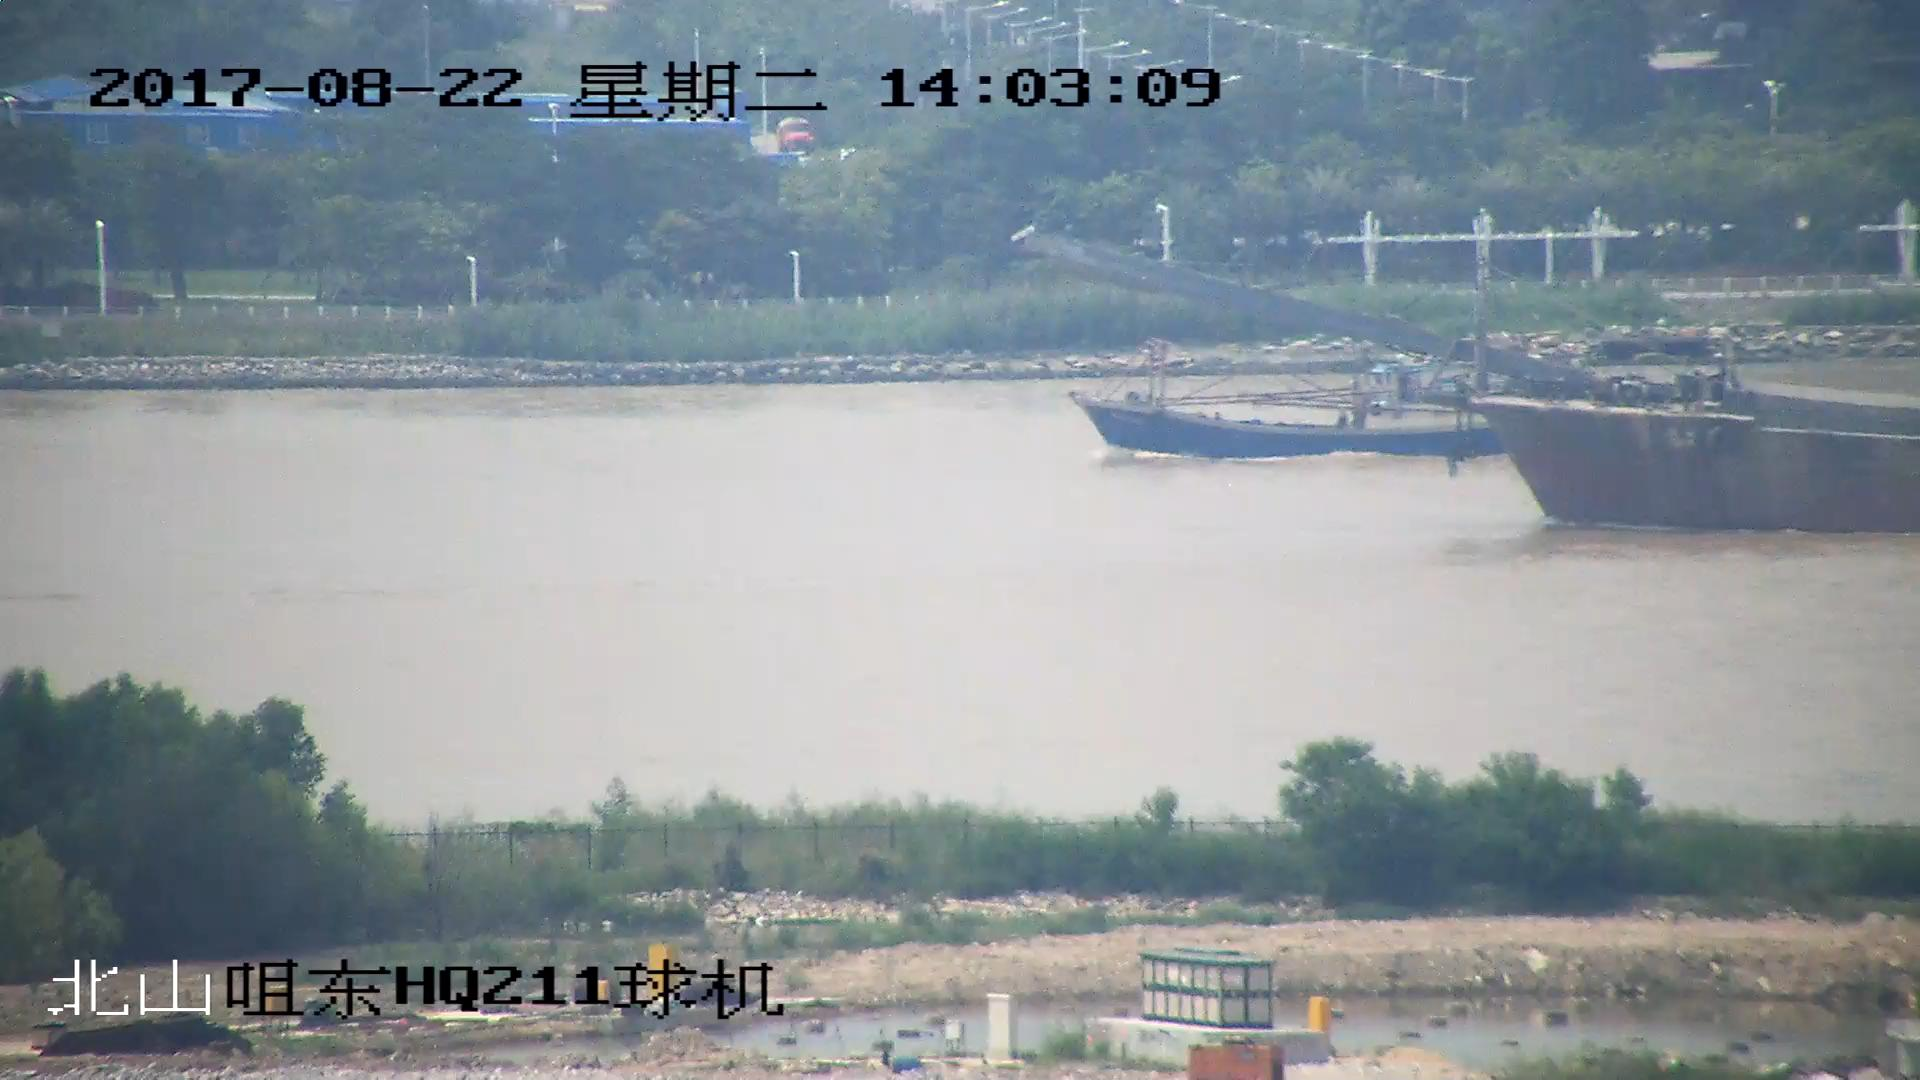bulk cargo carrier: (1019, 233, 1920, 538)
fishing boat: (1072, 342, 1506, 461)
